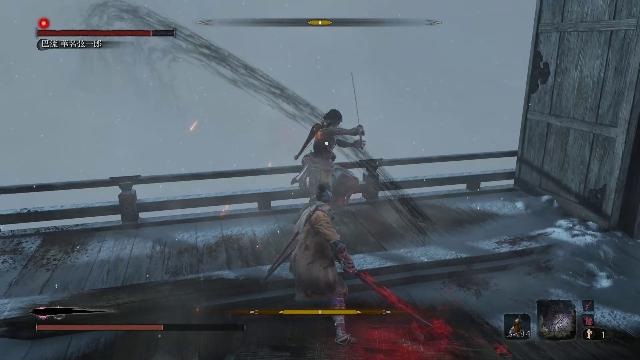sk: (286, 185, 360, 349)
